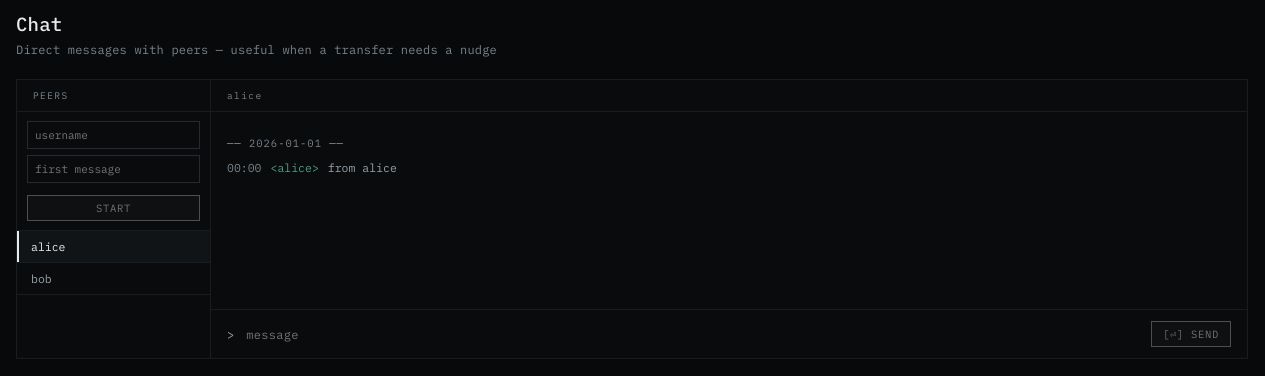
it: Chat rail › navigates and swaps messages when a different thread is clicked
Expected: the text "from alice" is shown, x1=328 y1=160 x2=397 y2=175
Click the link "bob" at (114, 279), box x1=17 y1=263 x2=210 y2=295
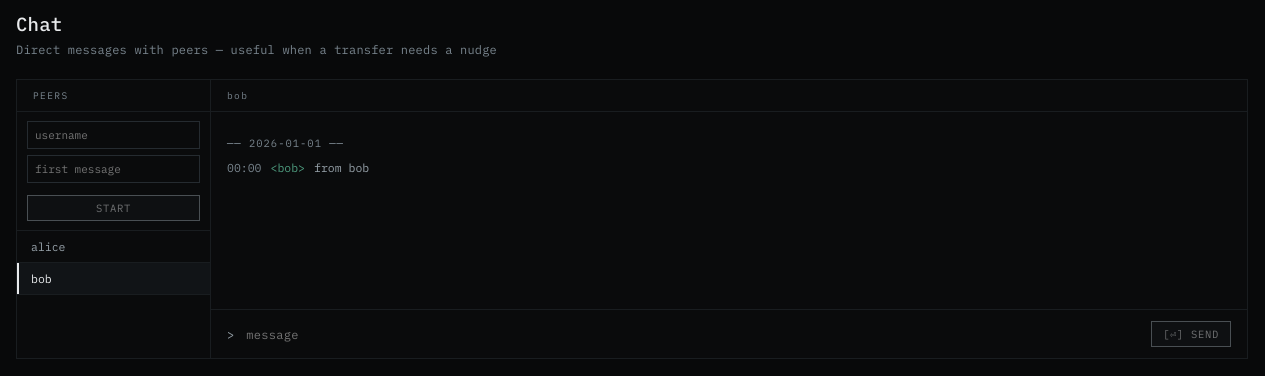
Expected: the text "from bob" is shown, x1=314 y1=160 x2=369 y2=175
Expected: the text "from alice" is gone
